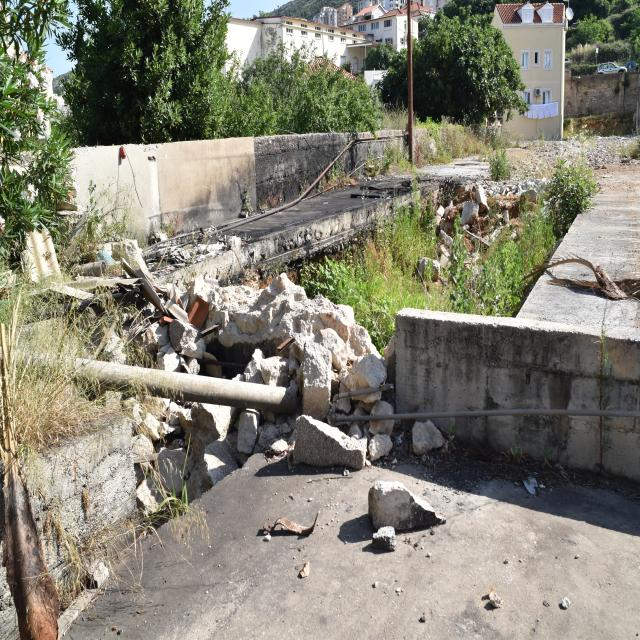entulho: (122, 260, 170, 318), (331, 382, 394, 424), (17, 222, 62, 276), (262, 508, 323, 538), (187, 296, 210, 326), (277, 334, 297, 356), (71, 262, 106, 274), (157, 318, 174, 326)
